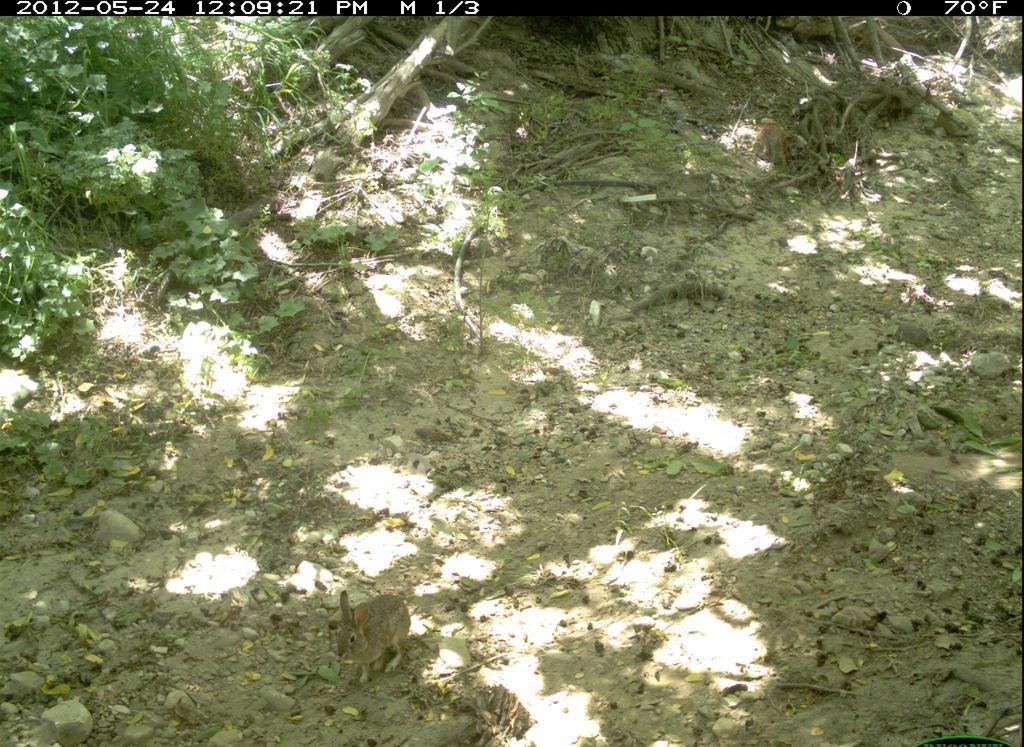rabbit: (333, 587, 416, 692)
